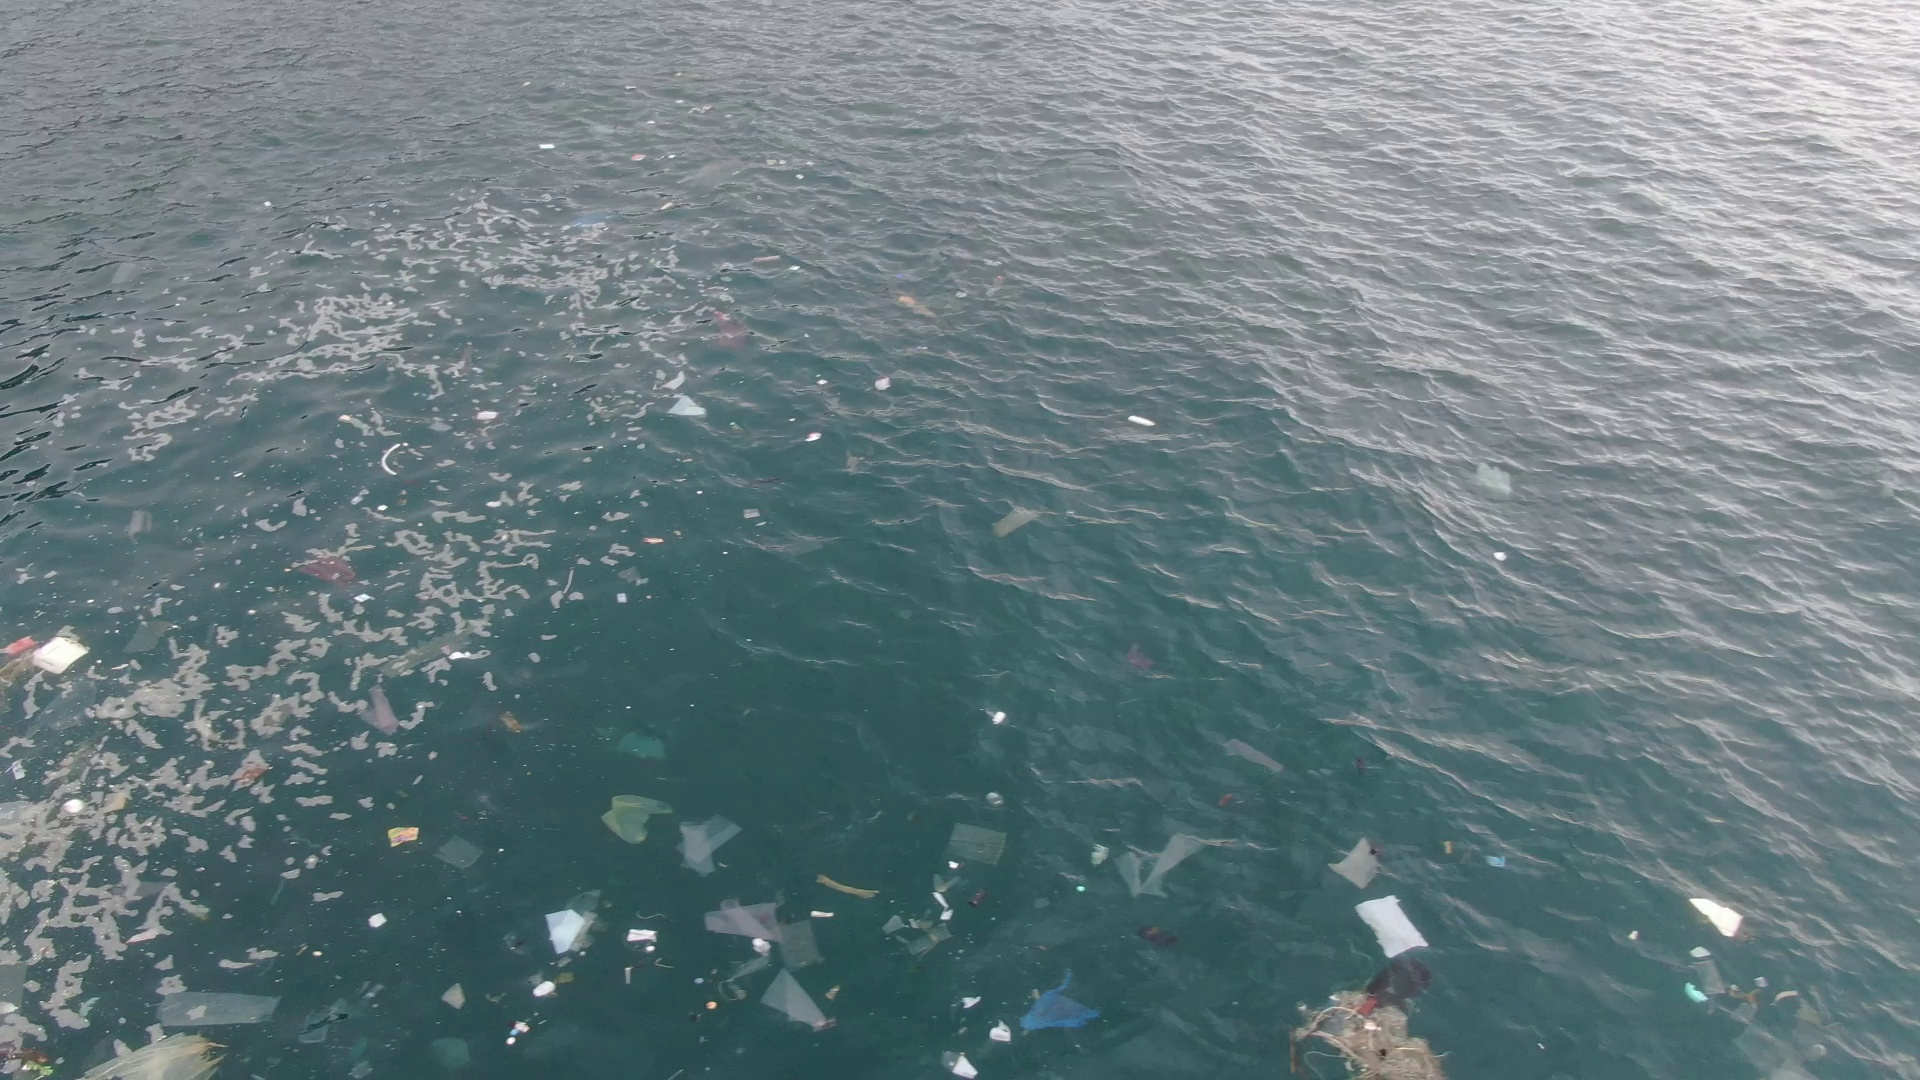garbage: (707, 905, 851, 1035), (882, 818, 1007, 961), (1332, 840, 1441, 988), (498, 890, 600, 1048), (91, 994, 280, 1077), (1284, 992, 1451, 1080), (603, 793, 745, 880), (1677, 895, 1762, 1029), (1112, 831, 1222, 899), (1021, 976, 1105, 1036), (385, 625, 469, 678), (622, 909, 678, 988), (1, 636, 88, 680), (287, 542, 361, 589), (302, 996, 367, 1042), (811, 866, 884, 906), (1221, 735, 1286, 775), (355, 687, 402, 738), (615, 727, 669, 767), (3, 1042, 57, 1079), (435, 835, 483, 872), (433, 1034, 477, 1068), (717, 307, 750, 352), (993, 510, 1036, 543), (377, 822, 423, 852), (663, 392, 708, 421), (1478, 458, 1511, 495), (898, 294, 938, 320), (436, 982, 469, 1013), (345, 1047, 377, 1077), (496, 705, 524, 737), (574, 210, 625, 225), (1127, 646, 1153, 676), (1127, 411, 1156, 427), (741, 506, 764, 524), (989, 709, 1007, 727), (644, 534, 665, 546), (753, 255, 782, 262), (876, 376, 891, 390), (804, 431, 823, 442), (538, 142, 556, 150), (632, 154, 647, 161), (661, 202, 673, 210)
